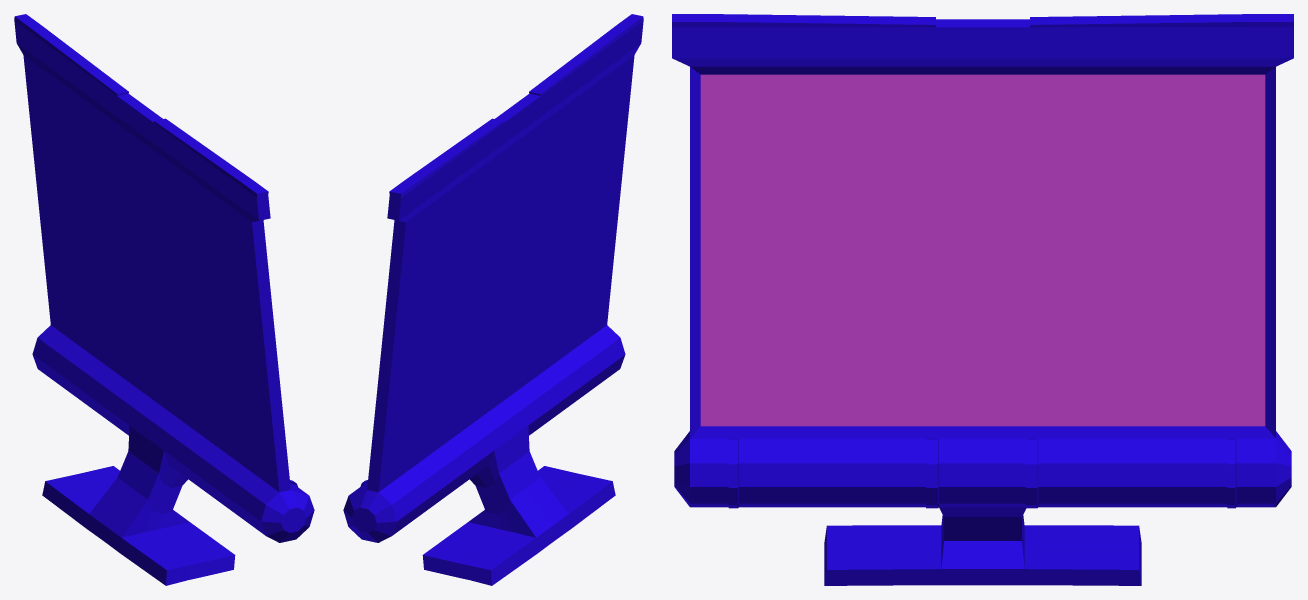
The model's file is futuristic computer REALLL.fbx.
The picture shows the model from 3 angles, left to right: view 1: azimuth 30°, elevation 25°; view 2: azimuth 150°, elevation 25°; view 3: azimuth 270°, elevation 25°; orthographic projection. The views are drawn at different scales.
Visible parts, largest first — view 1: Cylinder; view 2: Cylinder; view 3: Cylinder.
Boxes of the visible parts, bbox=[...] form: Cylinder: bbox=[14, 14, 314, 585]; Cylinder: bbox=[343, 14, 643, 585]; Cylinder: bbox=[672, 14, 1293, 585].
Size of the model in its own units: 190 by 783 by 804.
